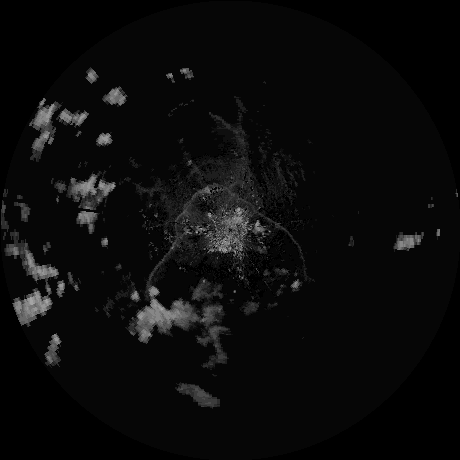frontgust: (214, 183, 304, 269), (145, 188, 209, 290)
